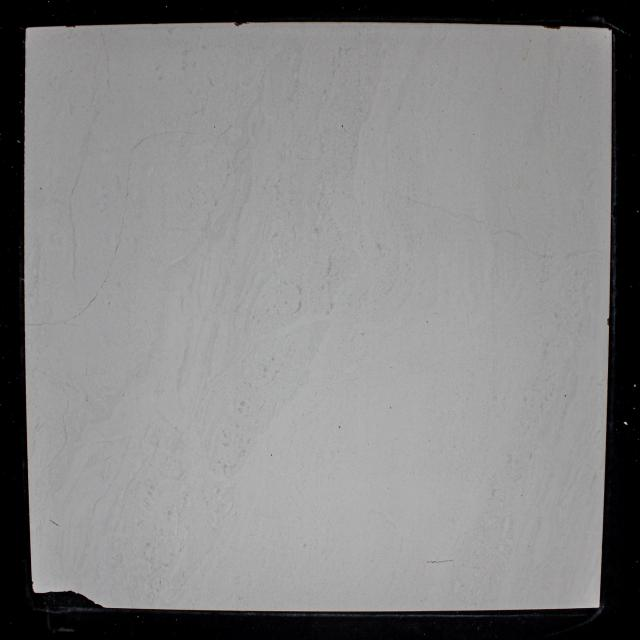edge-chipping: (32, 590, 105, 608), (542, 24, 562, 31), (234, 21, 249, 27), (607, 317, 610, 326), (607, 27, 612, 31), (31, 580, 34, 584)
line: (91, 164, 129, 303), (24, 305, 90, 327), (132, 132, 214, 147), (427, 559, 454, 564), (48, 518, 60, 527)
